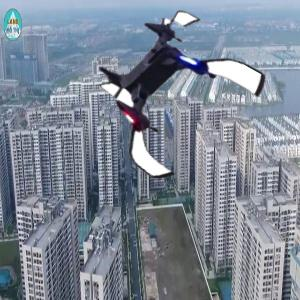drone: (87, 12, 257, 182)
